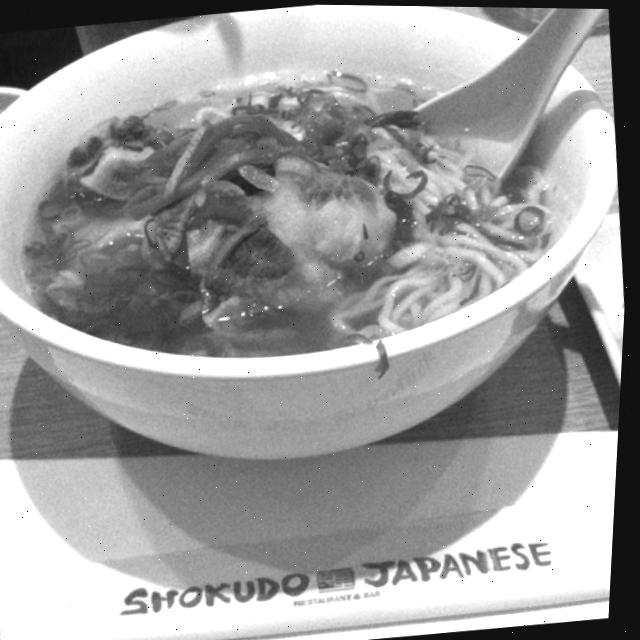汤锅炖物: (0, 0, 634, 427)
